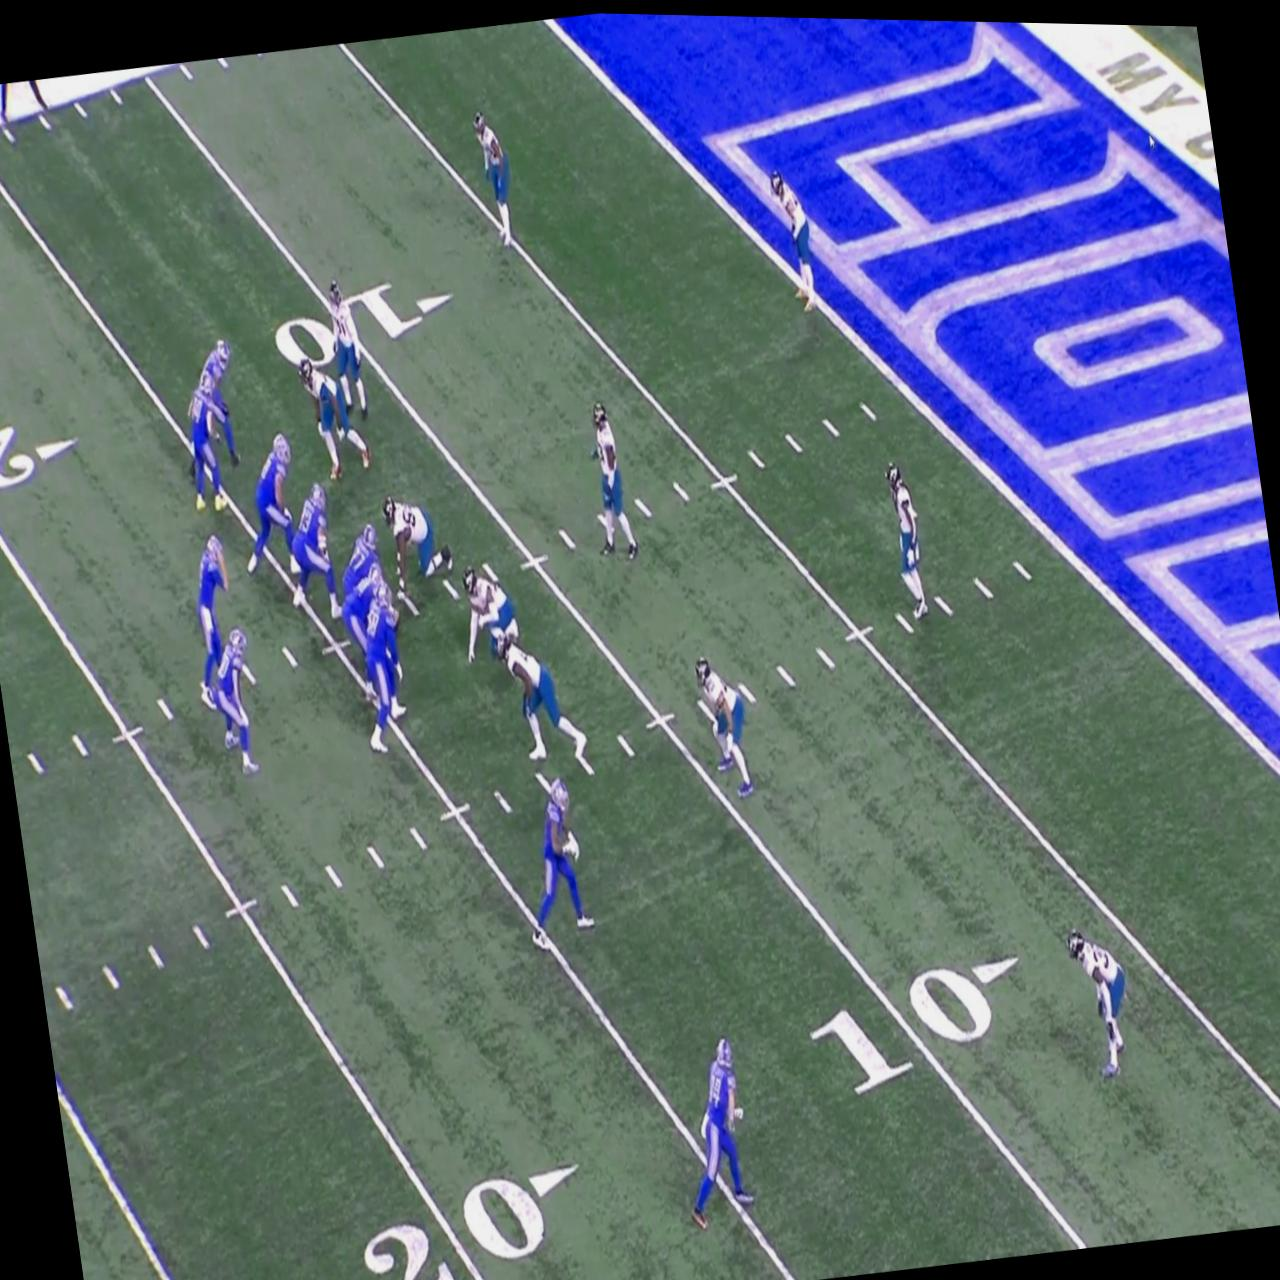10R: (800, 946, 1036, 1102), (268, 268, 462, 374)
20R: (353, 1156, 598, 1280), (0, 414, 82, 493)
